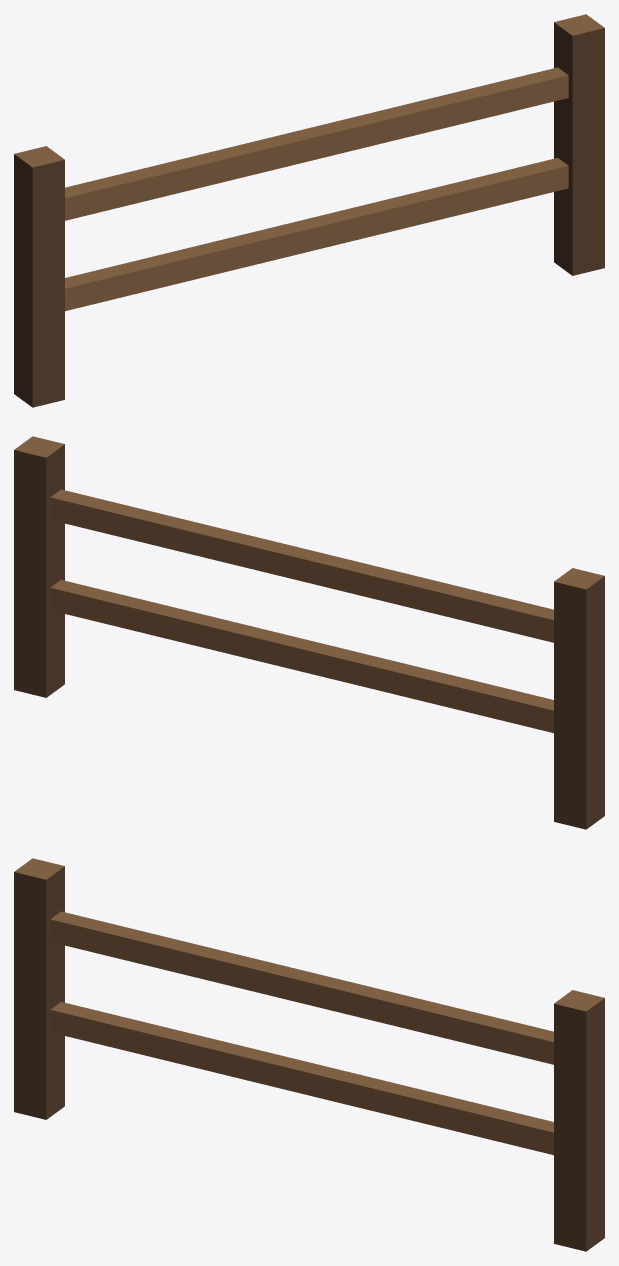
Rendered from fence_rail.glb.
3 renders of one model, top to bottom at view 1: azimuth 30°, elevation 25°; view 2: azimuth 150°, elevation 25°; view 3: azimuth 330°, elevation 25°, orthographic.
Visible parts, largest first — view 1: fence_rail; view 2: fence_rail; view 3: fence_rail.
Boxes of the visible parts, x1,y1,x2,y2 form: fence_rail: (14,14,604,407); fence_rail: (14,436,604,829); fence_rail: (14,858,604,1251).
Bounding box in the file's own units: 2.12 × 0.85 × 0.12.
